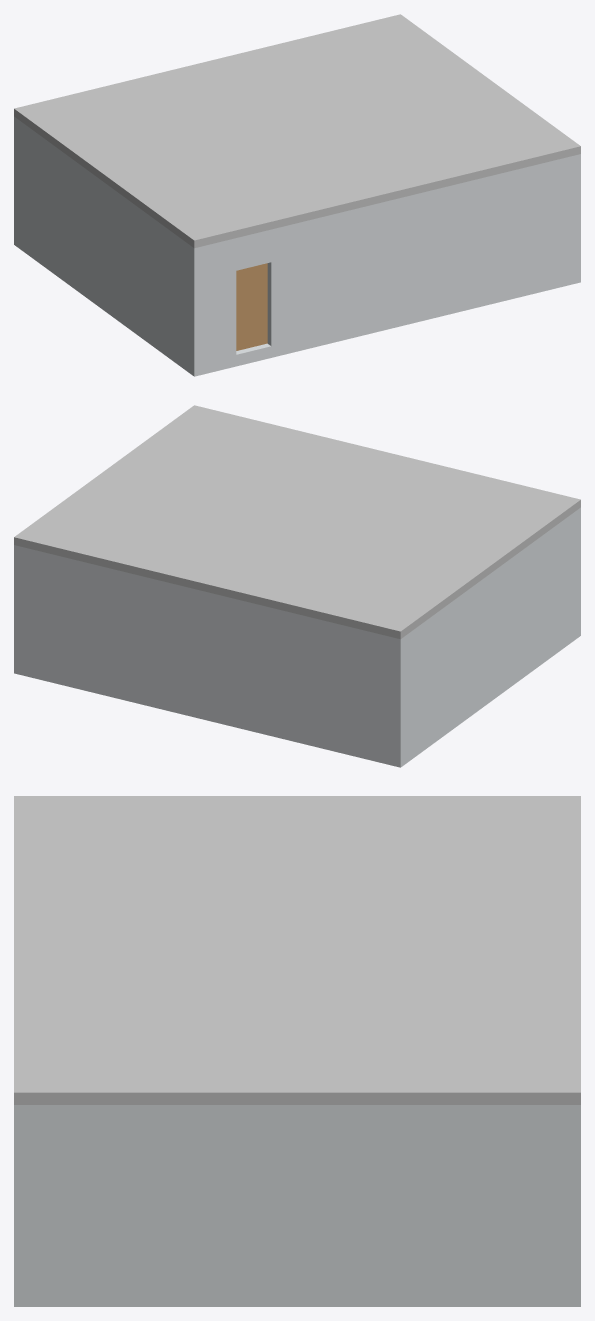
File: mirror_bathroom.glb
3 renders of one model, top to bottom at view 1: azimuth 30°, elevation 25°; view 2: azimuth 150°, elevation 25°; view 3: azimuth 270°, elevation 25°, orthographic. The views are drawn at different scales.
Visible parts, largest first — view 1: Restroom_Ceiling, Restroom_Wall_S_3, Restroom_Wall_W_1, Restroom_Floor, Restroom_Wall_S_1, DoorLeaf_wing_cinema, Restroom_Wall_S_2, Restroom_Wall_N_1; view 2: Restroom_Ceiling, Restroom_Wall_N_1, Restroom_Wall_W_1, Restroom_Floor, Restroom_Wall_S_1; view 3: Restroom_Ceiling, Restroom_Wall_E_1, Restroom_Floor, Restroom_Wall_N_1, Restroom_Wall_S_3.
Boxes of the visible parts, <box> form: Restroom_Ceiling: <box>14,14,580,248</box>; Restroom_Wall_S_3: <box>267,154,580,346</box>; Restroom_Wall_W_1: <box>18,120,189,361</box>; Restroom_Floor: <box>14,233,580,376</box>; Restroom_Wall_S_1: <box>190,238,236,364</box>; DoorLeaf_wing_cinema: <box>236,263,267,350</box>; Restroom_Wall_S_2: <box>236,229,271,270</box>; Restroom_Wall_N_1: <box>14,116,18,235</box>; Restroom_Ceiling: <box>14,405,580,639</box>; Restroom_Wall_N_1: <box>14,545,404,755</box>; Restroom_Wall_W_1: <box>405,511,576,752</box>; Restroom_Floor: <box>14,624,580,767</box>; Restroom_Wall_S_1: <box>576,507,580,626</box>; Restroom_Ceiling: <box>14,796,580,1104</box>; Restroom_Wall_E_1: <box>27,1105,567,1288</box>; Restroom_Floor: <box>14,1288,580,1306</box>; Restroom_Wall_N_1: <box>567,1105,580,1288</box>; Restroom_Wall_S_3: <box>14,1105,27,1288</box>.
Bounding box in the file's own units: 10.4 × 3.5 × 8.4.
